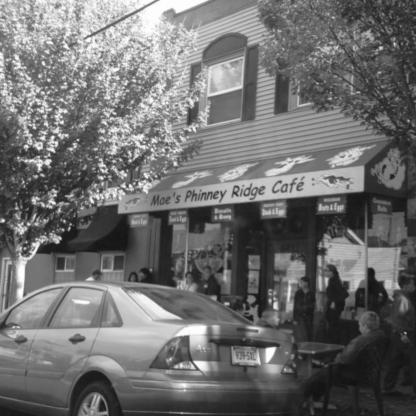Car: (1, 278, 305, 416)
